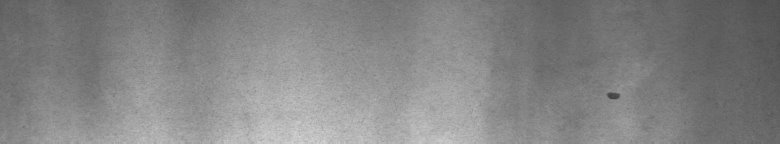fi: (604, 84, 632, 108)
